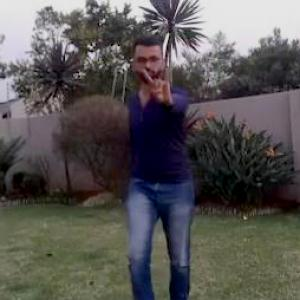takeoff-hand: (137, 63, 183, 111)
